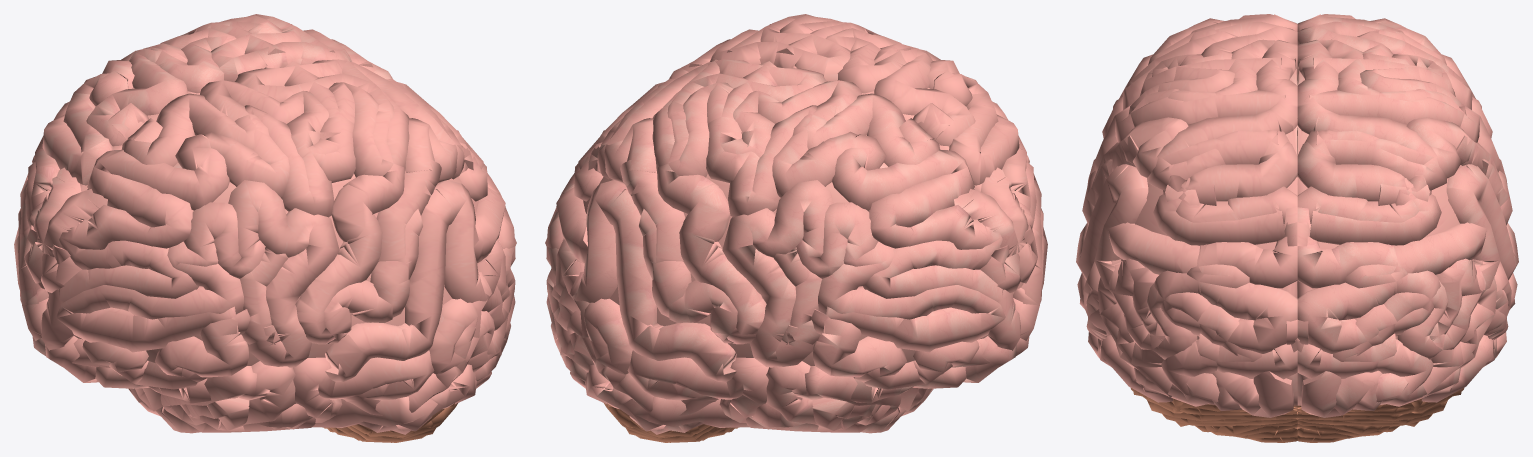
Rendered from brain.glb.
3 views of the same model, side by side, from view 1: azimuth 30°, elevation 25°; view 2: azimuth 150°, elevation 25°; view 3: azimuth 270°, elevation 25° (orthographic). The views are drawn at different scales.
Parts seen in each view (by area): view 1: Object_3, Object_4, Object_2; view 2: Object_4, Object_3, Object_2; view 3: Object_4, Object_3, Object_2.
Boxes of the visible parts, x1,y1,x2,y2 form: Object_3: (32,59,516,434); Object_4: (14,14,478,378); Object_2: (324,403,457,442); Object_4: (545,28,1030,434); Object_3: (624,14,1047,433); Object_2: (604,403,737,442); Object_4: (1106,14,1518,428); Object_3: (1076,14,1506,417); Object_2: (1130,388,1464,442).
Bounding box in the file's own units: 4.36 × 3.44 × 3.95.
Materials: 2 (1 with a texture image).
